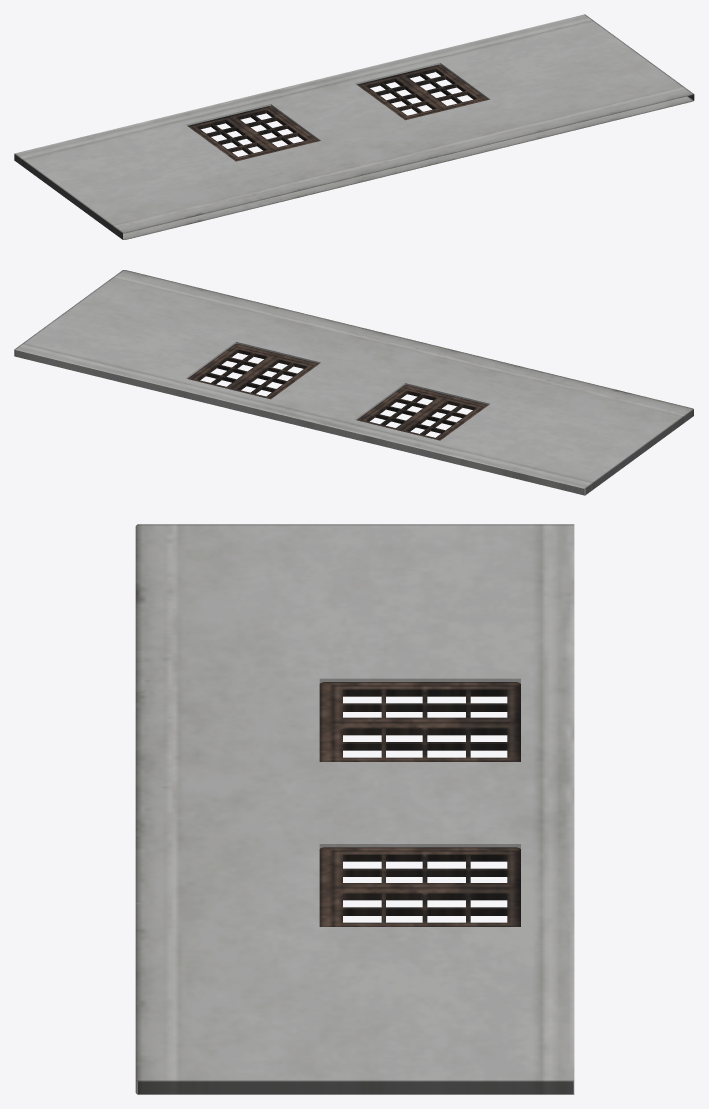
The model's file is SM_EC_House_Wall_Window_1_9x3_2.fbx.
3 views of the same model, one above another, from view 1: azimuth 30°, elevation 25°; view 2: azimuth 150°, elevation 25°; view 3: azimuth 270°, elevation 25° (orthographic). The views are drawn at different scales.
Parts seen in each view (by area): view 1: SM_EC_House_Wall_Window_1_9x3_2; view 2: SM_EC_House_Wall_Window_1_9x3_2; view 3: SM_EC_House_Wall_Window_1_9x3_2.
Boxes of the visible parts, bbox=[...] form: SM_EC_House_Wall_Window_1_9x3_2: bbox=[14, 14, 694, 239]; SM_EC_House_Wall_Window_1_9x3_2: bbox=[14, 270, 693, 495]; SM_EC_House_Wall_Window_1_9x3_2: bbox=[135, 524, 574, 1094].
Size of the model in its own units: 9 by 3 by 0.1.
